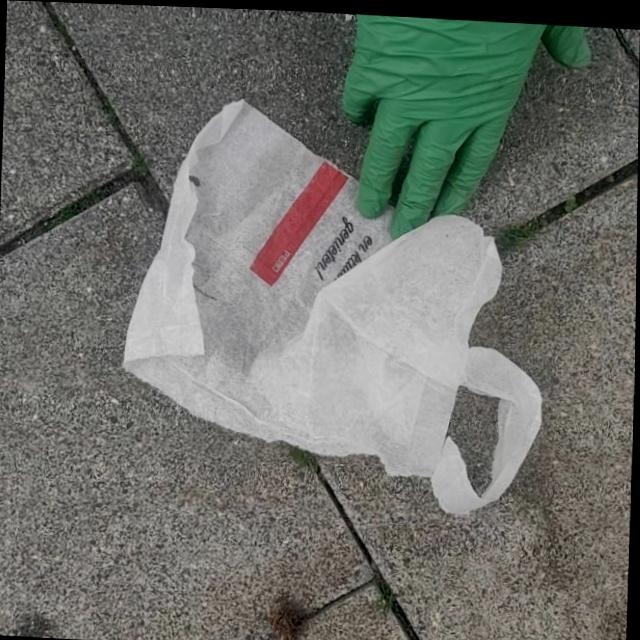Paper: (112, 88, 560, 521)
